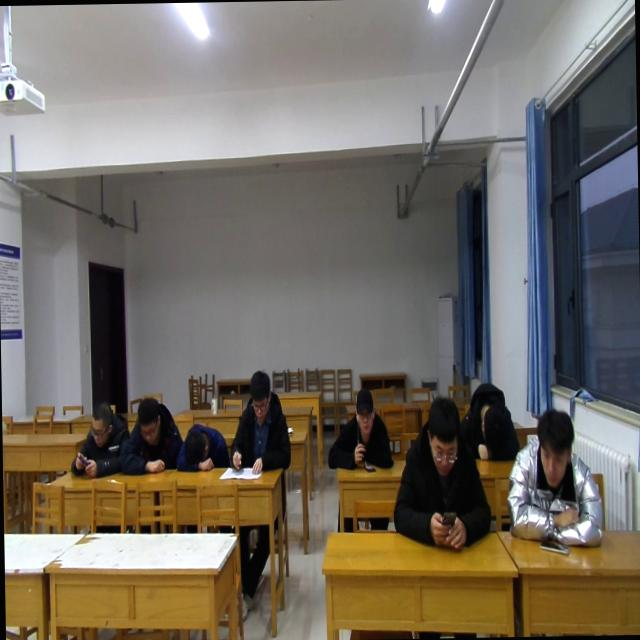bow: (505, 406, 605, 551), (117, 396, 185, 474), (67, 398, 130, 481), (462, 382, 522, 464), (174, 420, 231, 471)
down: (534, 406, 576, 490), (423, 395, 462, 479), (134, 392, 162, 444), (246, 362, 270, 422), (87, 400, 113, 448)
lookup: (352, 386, 376, 436)
sit: (388, 394, 492, 551), (228, 366, 292, 475), (327, 387, 392, 472)
